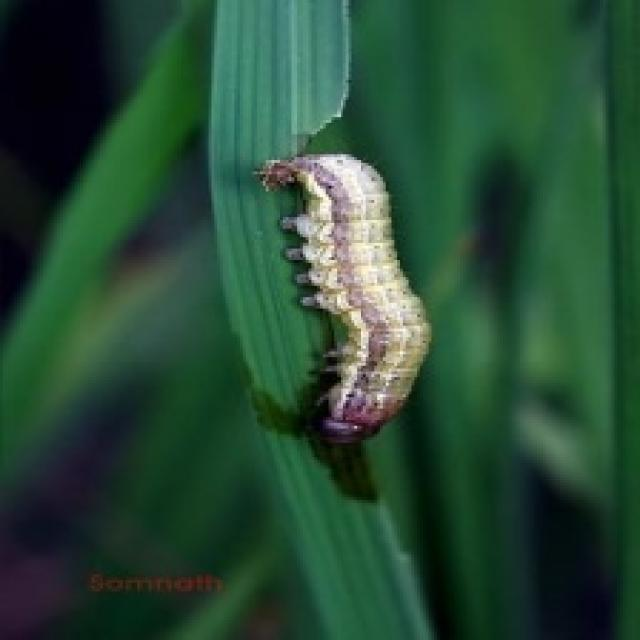Plaga: (238, 144, 444, 453)
